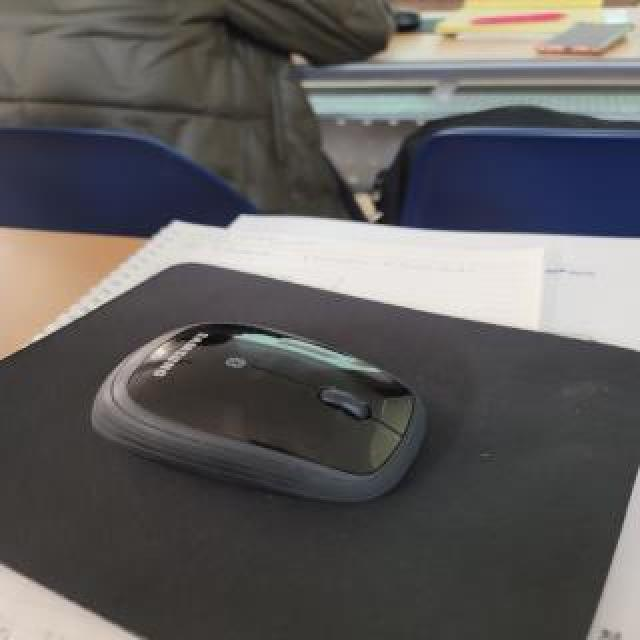mouse: (110, 295, 429, 518)
